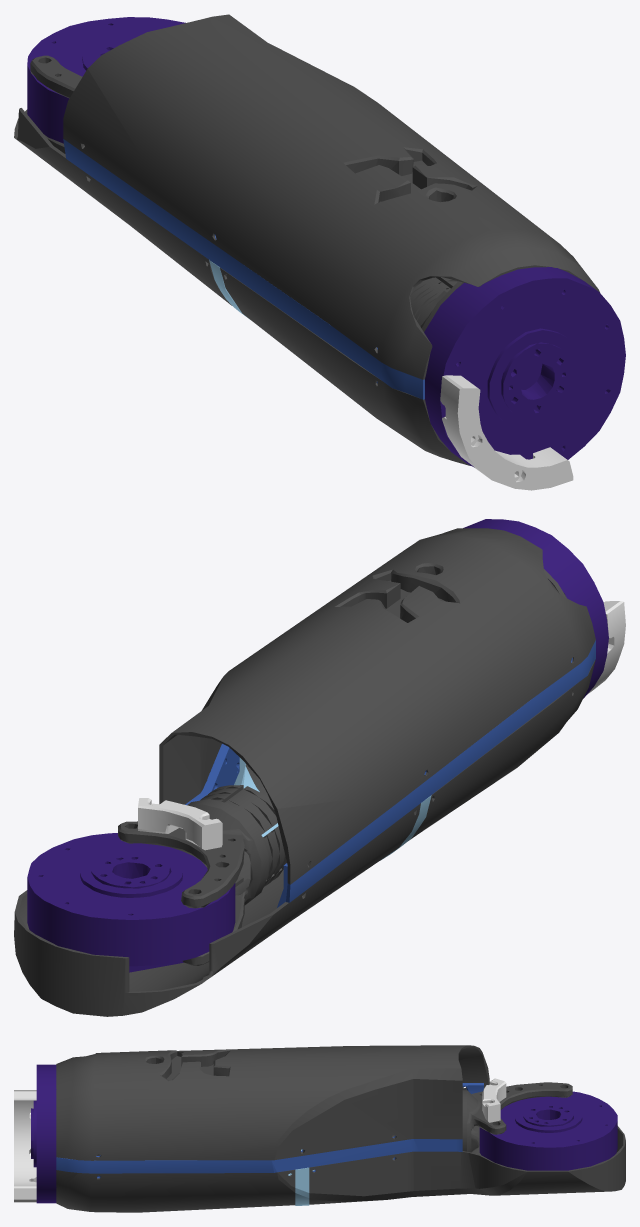
File: left_shoulder_yaw.obj
3 views of the same model, one above another, from view 1: azimuth 30°, elevation 25°; view 2: azimuth 150°, elevation 25°; view 3: azimuth 270°, elevation 25° (orthographic). The views are drawn at different scales.
Visible parts, largest first — view 1: Right_Shell, AK80_9, Left_Shell, Back_Seam, N16_23_P02_02_Endstop_Upper_Arm, N16_23_P03_01_Link_Upper_Arm___Proximal_Mount, N16_23_P03_02_Link_Upper_Arm___Distal_Mount; view 2: Right_Shell, AK80_9, Left_Shell, N16_23_P03_02_Link_Upper_Arm___Distal_Mount, Back_Seam, N16_23_P03_03_Endstop_Elbow, N16_23_P02_02_Endstop_Upper_Arm, Front_Seam, Part_6; view 3: Right_Shell, Left_Shell, AK80_9, Front_Seam, N16_23_P03_02_Link_Upper_Arm___Distal_Mount, N16_23_P02_02_Endstop_Upper_Arm, N16_23_P03_03_Endstop_Elbow, Part_6.
Part boxes in pixels (x1=…): Right_Shell: x1=63, y1=14, x2=599, y2=379; AK80_9: x1=27, y1=17, x2=625, y2=467; Left_Shell: x1=14, y1=108, x2=470, y2=465; Back_Seam: x1=63, y1=139, x2=424, y2=399; N16_23_P02_02_Endstop_Upper_Arm: x1=440, y1=375, x2=573, y2=490; N16_23_P03_01_Link_Upper_Arm___Proximal_Mount: x1=410, y1=277, x2=463, y2=331; N16_23_P03_02_Link_Upper_Arm___Distal_Mount: x1=30, y1=55, x2=82, y2=153; Right_Shell: x1=159, y1=528, x2=595, y2=884; AK80_9: x1=27, y1=519, x2=608, y2=972; Left_Shell: x1=14, y1=659, x2=595, y2=1016; N16_23_P03_02_Link_Upper_Arm___Distal_Mount: x1=118, y1=785, x2=286, y2=965; Back_Seam: x1=277, y1=640, x2=595, y2=907; N16_23_P03_03_Endstop_Elbow: x1=138, y1=798, x2=222, y2=850; N16_23_P02_02_Endstop_Upper_Arm: x1=587, y1=601, x2=625, y2=694; Front_Seam: x1=185, y1=743, x2=239, y2=805; Part_6: x1=234, y1=757, x2=431, y2=860; Right_Shell: x1=56, y1=1045, x2=489, y2=1160; Left_Shell: x1=56, y1=1125, x2=625, y2=1212; AK80_9: x1=31, y1=1064, x2=617, y2=1203; Front_Seam: x1=56, y1=1136, x2=462, y2=1178; N16_23_P03_02_Link_Upper_Arm___Distal_Mount: x1=462, y1=1082, x2=572, y2=1154; N16_23_P02_02_Endstop_Upper_Arm: x1=14, y1=1090, x2=36, y2=1202; N16_23_P03_03_Endstop_Elbow: x1=482, y1=1078, x2=506, y2=1122; Part_6: x1=288, y1=1149, x2=314, y2=1205.
Size of the model in its own units: 0.118 by 0.116 by 0.435.
